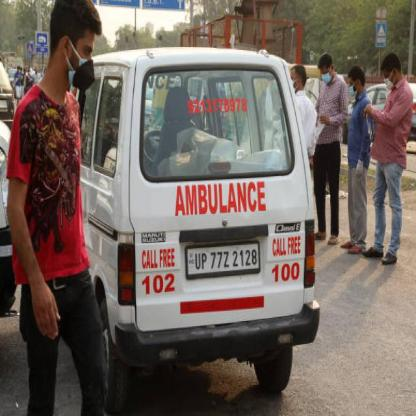priority: (120, 54, 308, 372), (172, 176, 280, 228)
